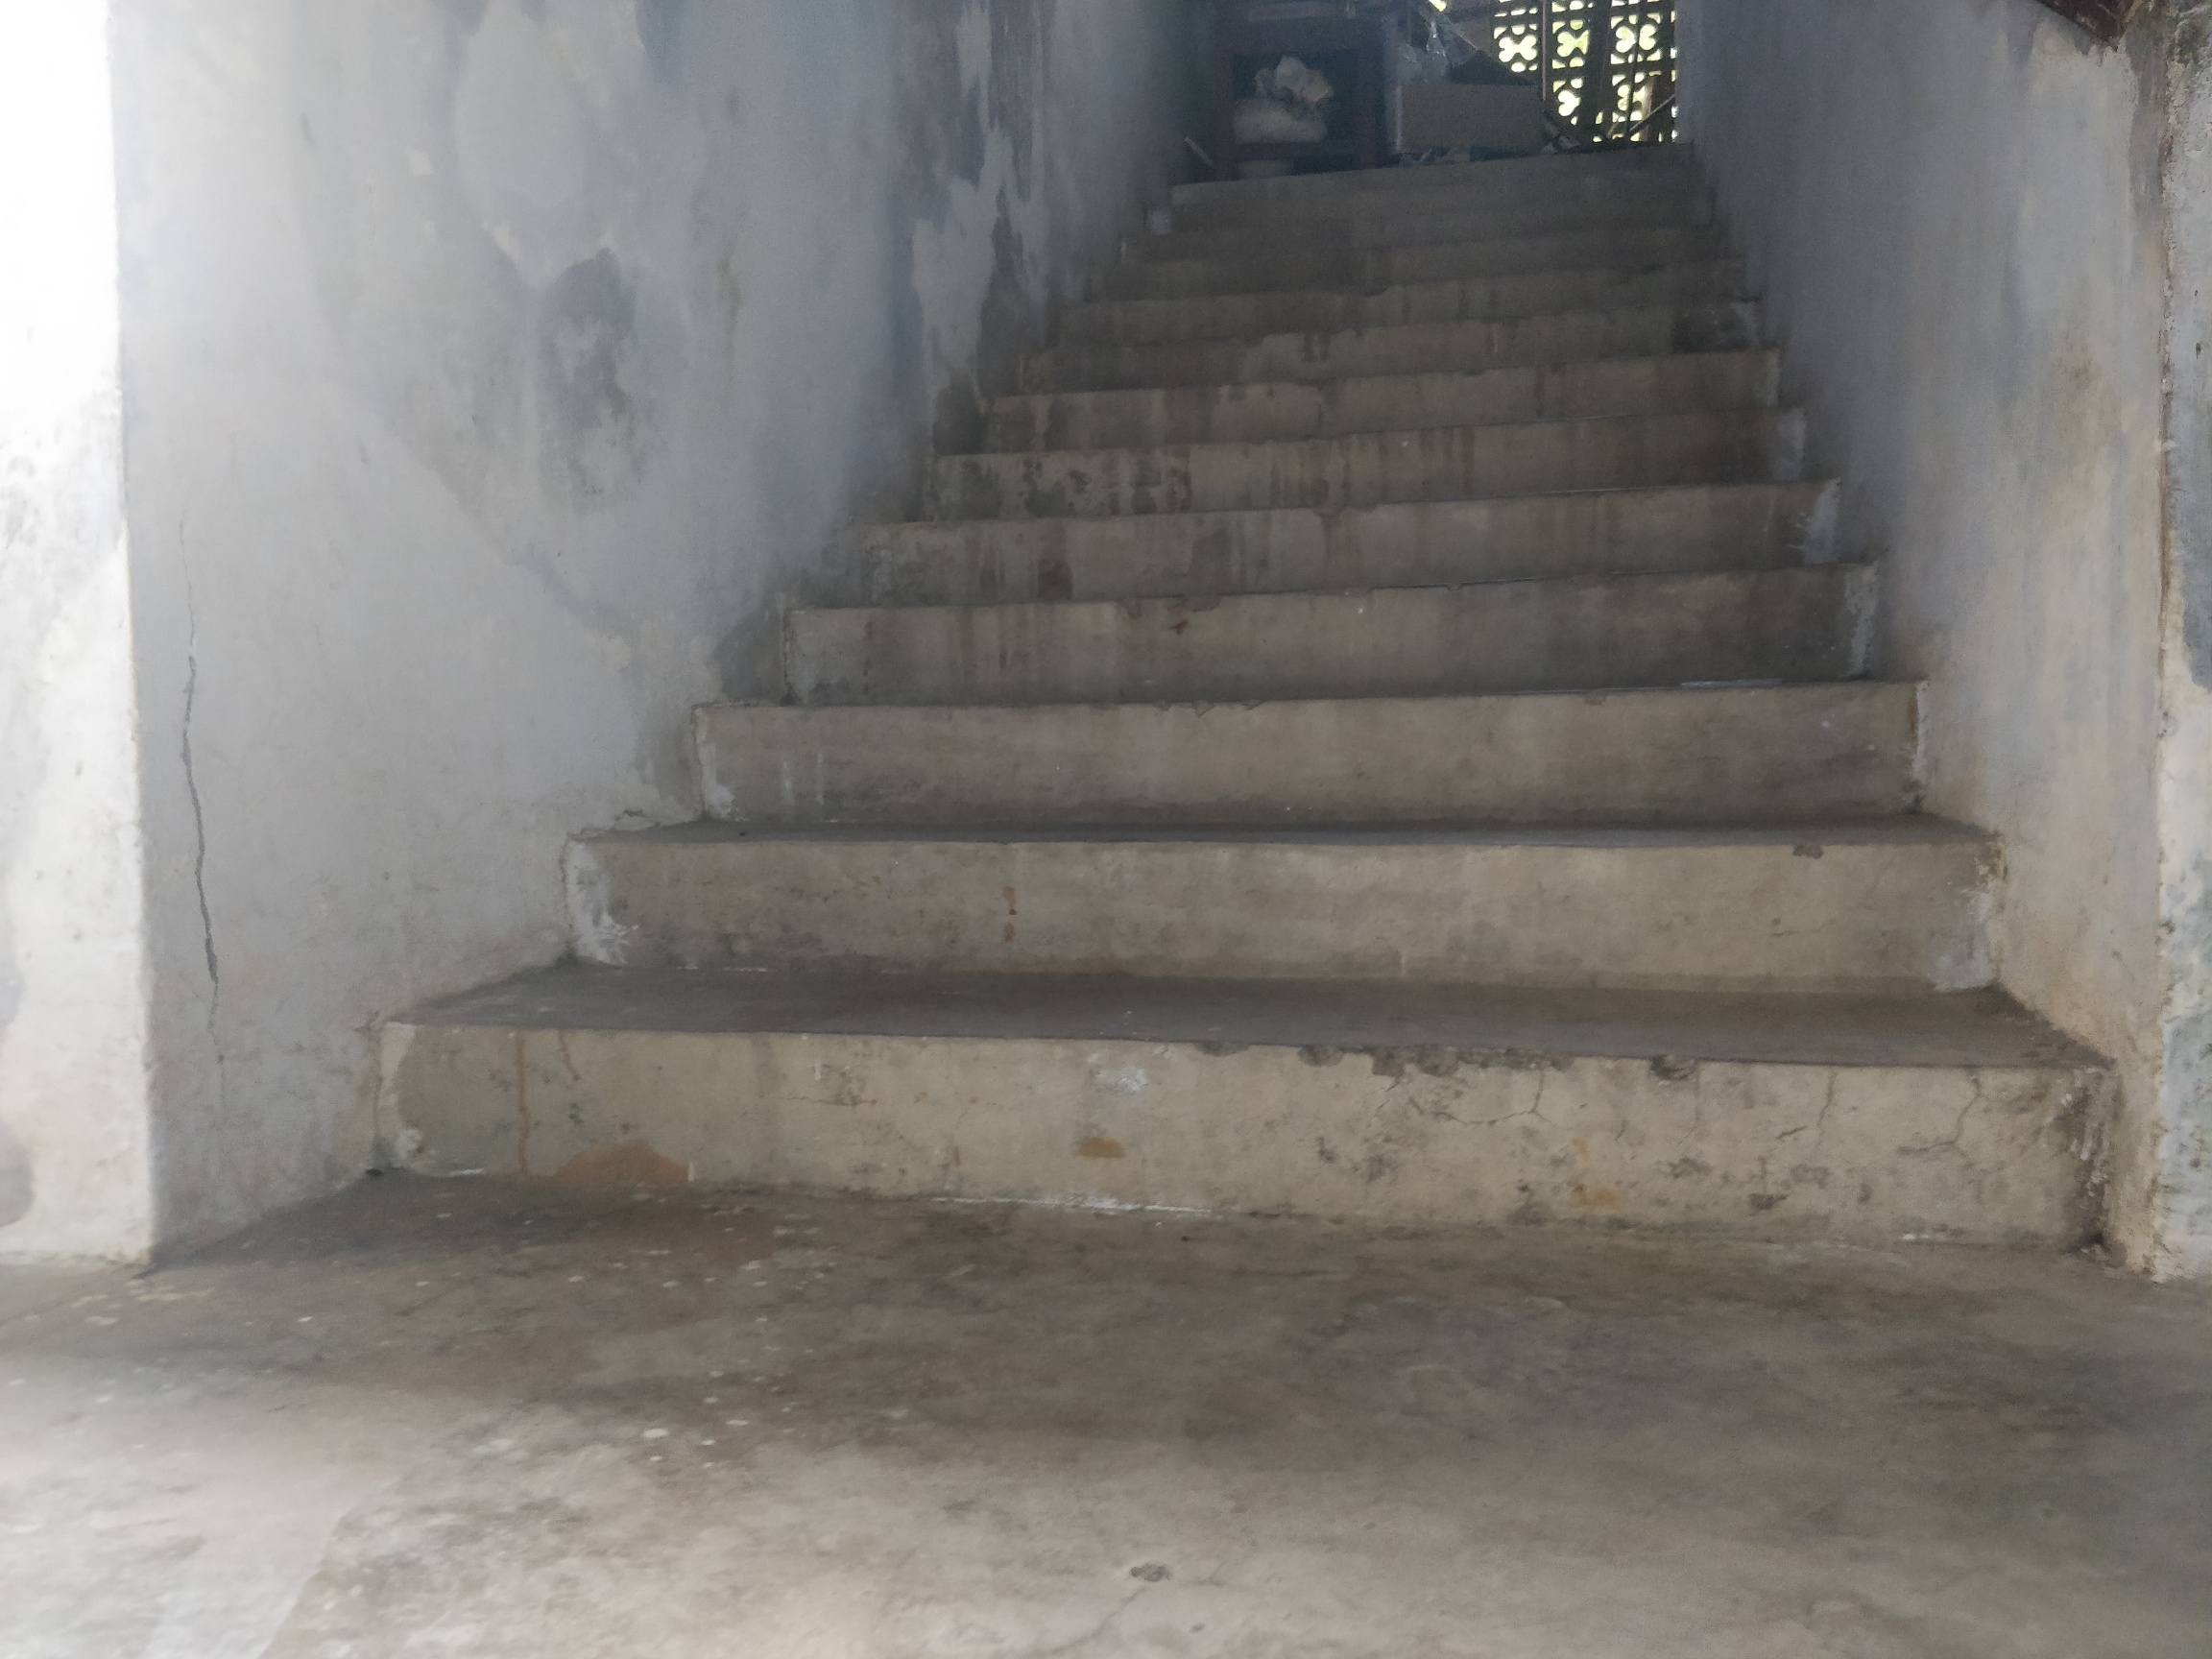stairs_up: (526, 204, 2038, 1251)
